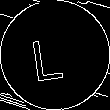L_N: (36, 28, 74, 82)
